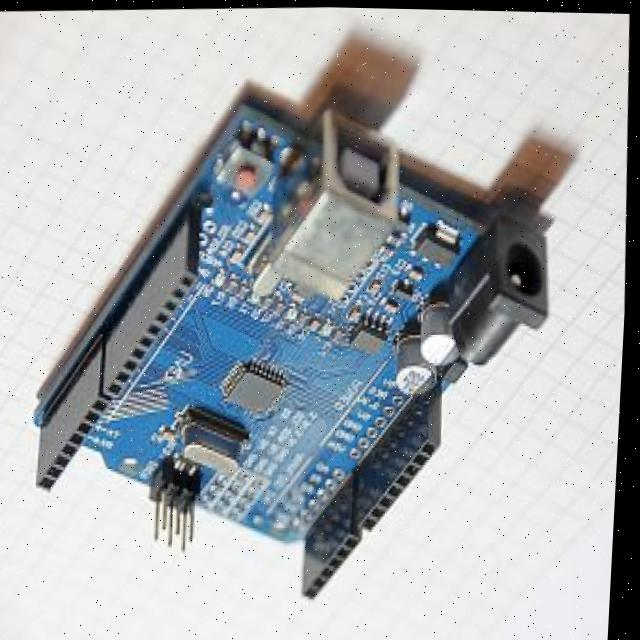Arduino: (0, 41, 621, 638)
